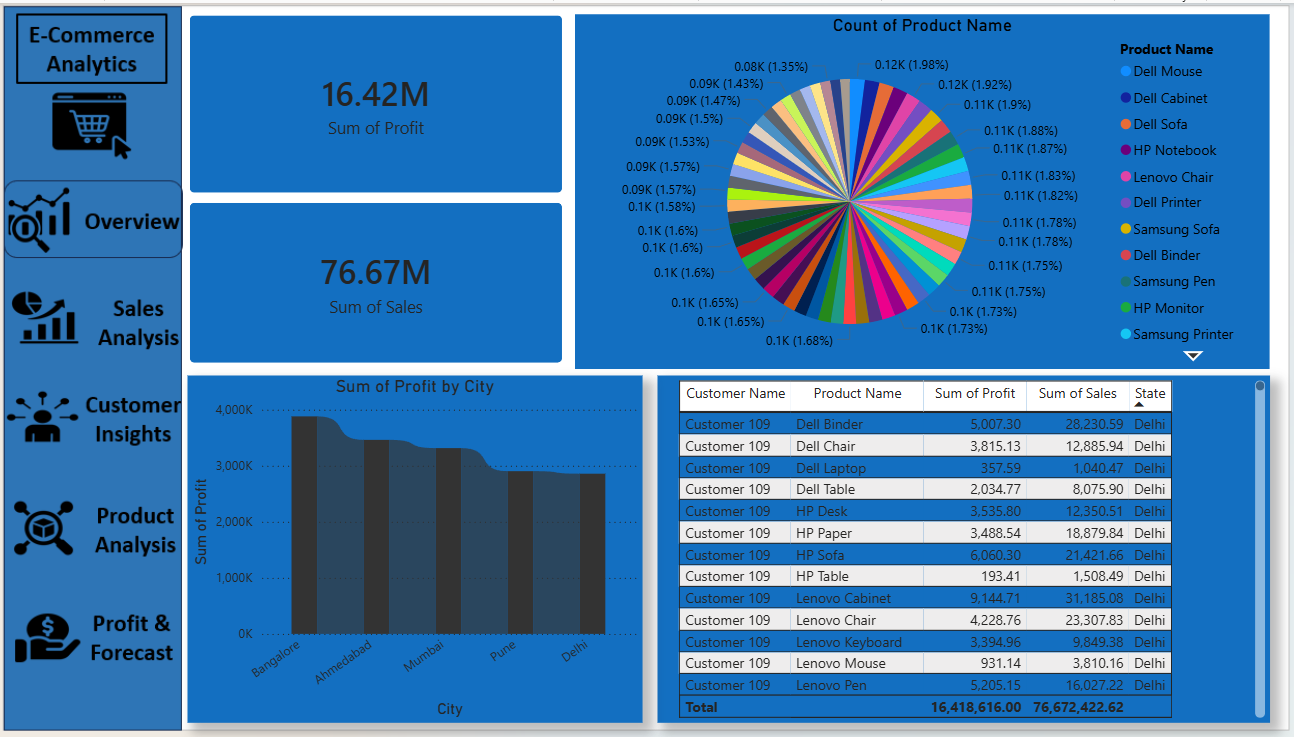

The dashboard page shown, as its layout file describes it:
{"tool":"powerbi","page":{"name":"Overview","canvas":[1280,720],"ordinal":0},"visuals":[{"type":"actionButton","box":[24.7,262.1,175.6,76.8],"z":0},{"type":"actionButton","box":[24.7,359.5,175.6,71.4],"z":1000},{"type":"actionButton","box":[24.7,467.9,175.6,72.7],"z":2000},{"type":"actionButton","box":[24.7,573.6,175.6,75.5],"z":3000},{"type":"actionButton","box":[24.1,174.9,176.1,78.4],"z":4000},{"type":"pieChart","title":"Count of Product Name","fields":{"Category":["Orders_Data.Product Name"],"Y":["CountNonNull(Orders_Data.Product Name)"]},"box":[574.3,10.9,670.8,342.6],"z":5000},{"type":"cardVisual","fields":{"Data":["Sum(Orders_Data.Sales)"]},"box":[190.6,181,383.6,178.6],"z":6000},{"type":"tableEx","fields":{"Values":["Orders_Data.Customer Name","Orders_Data.Product Name","Sum(Orders_Data.Profit)","Sum(Orders_Data.Sales)","Orders_Data.State"]},"box":[653.9,359.5,591.2,322.1],"z":7000},{"type":"ribbonChart","fields":{"Y":["Sum(Orders_Data.Profit)"],"Category":["Orders_Data.City"]},"box":[200.3,359.5,439.1,322.1],"z":8000},{"type":"cardVisual","fields":{"Data":["Sum(Orders_Data.Profit)"]},"box":[190.6,0,383.6,195.4],"z":9000}]}

Visuals, with their boxes in screenshot pixels (x1, y1, x2, y2), scaled from the page's 1280x720 canvas onto the 1294x737 screenshot:
actionButton: Rect(25, 268, 202, 347)
actionButton: Rect(25, 368, 202, 441)
actionButton: Rect(25, 479, 202, 553)
actionButton: Rect(25, 587, 202, 664)
actionButton: Rect(24, 179, 202, 259)
"Count of Product Name" pieChart: Rect(581, 11, 1259, 362)
cardVisual - Sum(Orders_Data.Sales): Rect(193, 185, 580, 368)
tableEx - Orders_Data.Customer Name x Orders_Data.Product Name: Rect(661, 368, 1259, 698)
ribbonChart - Sum(Orders_Data.Profit) x Orders_Data.City: Rect(202, 368, 646, 698)
cardVisual - Sum(Orders_Data.Profit): Rect(193, 0, 580, 200)
